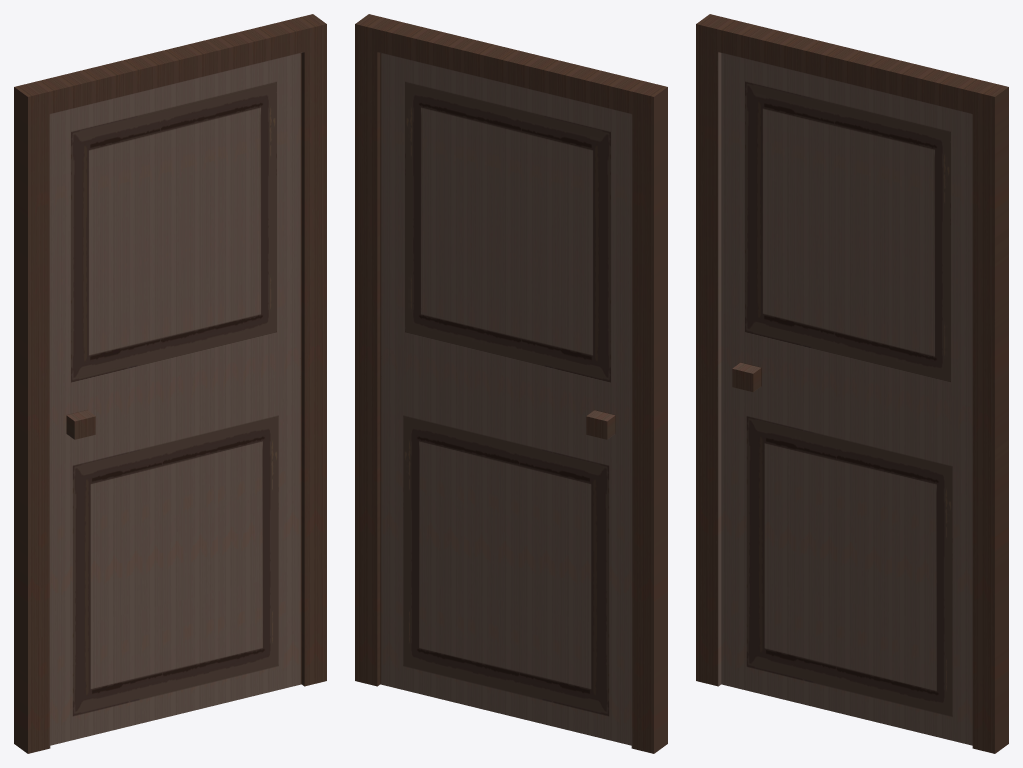
The model's file is 3dmodel_normalwoodendoor_v1_sc.fbx.
3 views of the same model, side by side, from view 1: azimuth 30°, elevation 25°; view 2: azimuth 150°, elevation 25°; view 3: azimuth 330°, elevation 25° (orthographic).
Visible parts, largest first — view 1: door; view 2: door; view 3: door.
Part boxes in pixels (left/top/right/bottom): door: left=14, top=14, right=326, bottom=753; door: left=355, top=14, right=667, bottom=753; door: left=696, top=14, right=1008, bottom=753.
Bounding box in the file's own units: 1 × 2.1 × 0.1422.
